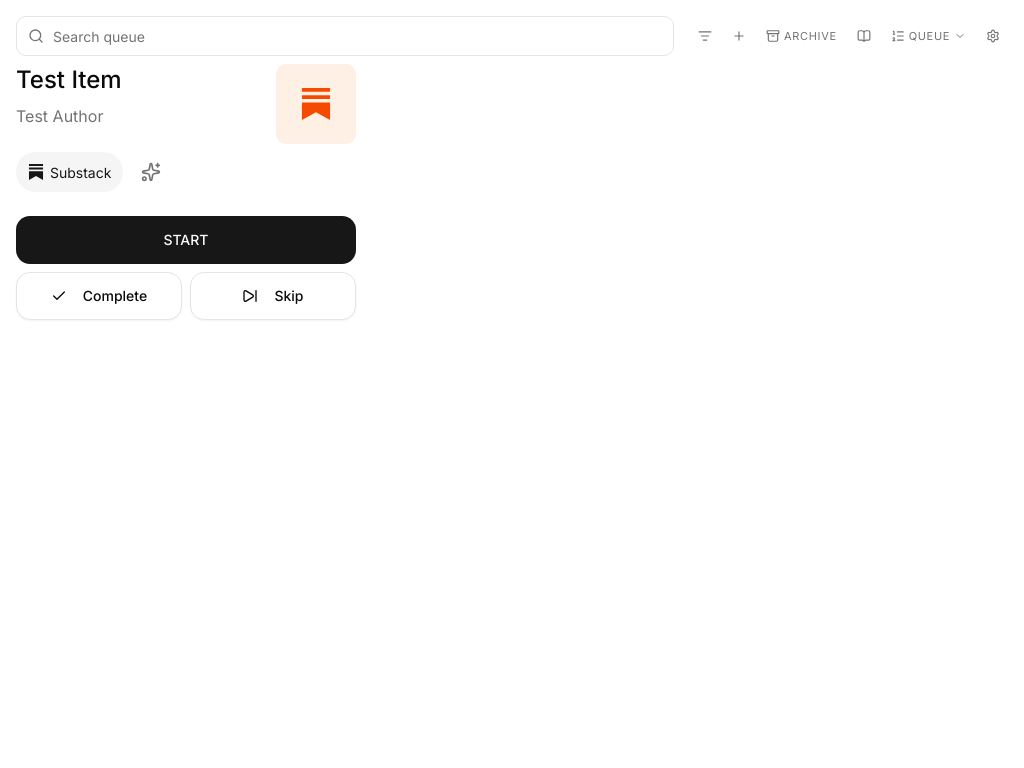
Scenario: inline summary one-liner (#304) › shows the one-liner right after Generate, without a reload
Click the button titled "Show AI Summary" at (151,172), box [131,152,171,192]
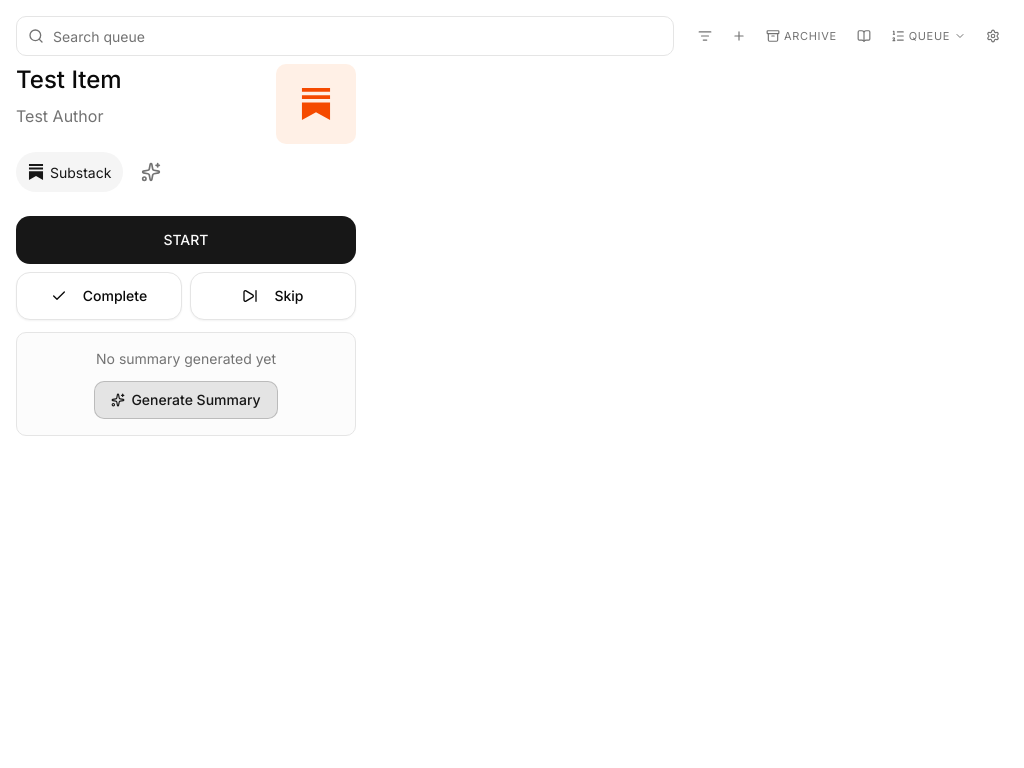
Click the button "Generate Summary" at (186,400), box [94,381,278,419]
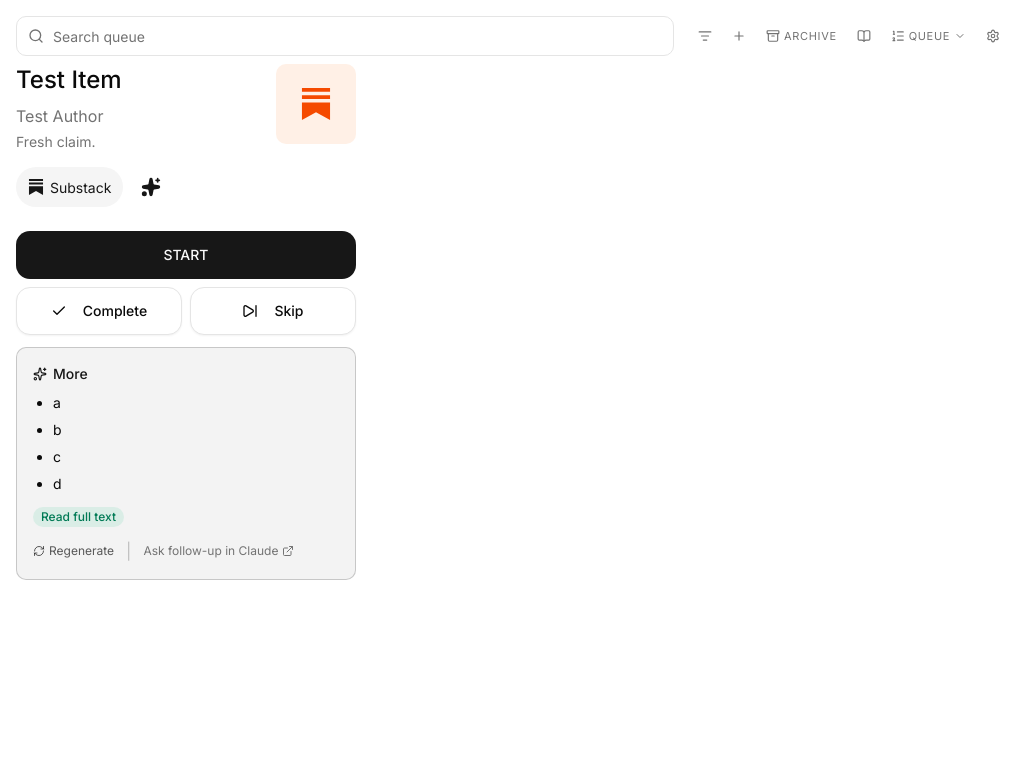
Expected: the text with test id "summary-one-liner" reads "Fresh claim.", [16,133,96,150]
